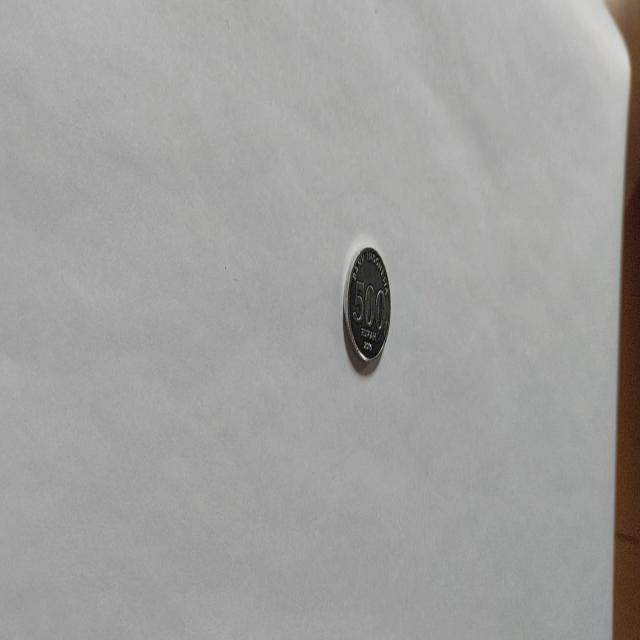lima ratus rupiah: (342, 245, 392, 372)
